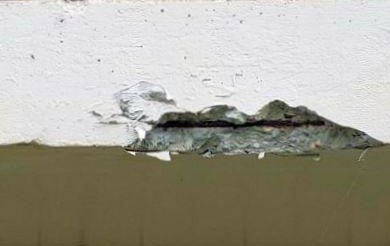Exposed reinforcement: (156, 118, 326, 129)
Spalling: (123, 98, 387, 162)
